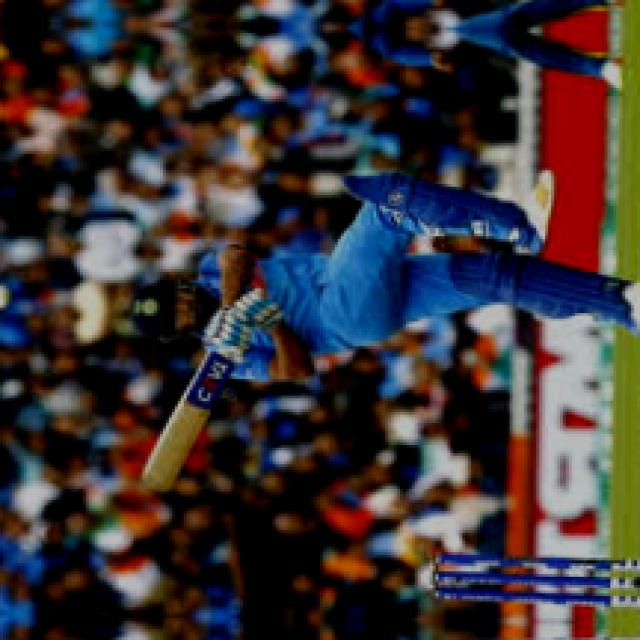toe: (125, 462, 180, 504)
